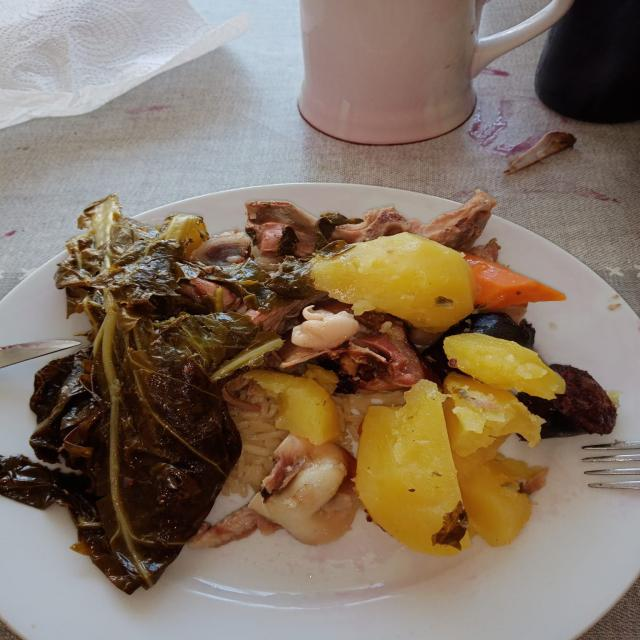baked potatoes: (352, 333, 565, 556), (245, 366, 354, 544), (310, 232, 475, 332)
cabbage: (1, 196, 324, 593)
carrot: (464, 253, 566, 311)
fork: (582, 442, 640, 477), (589, 480, 640, 489)
garbage: (333, 191, 495, 249), (245, 201, 316, 260)
rice: (221, 388, 287, 495)
